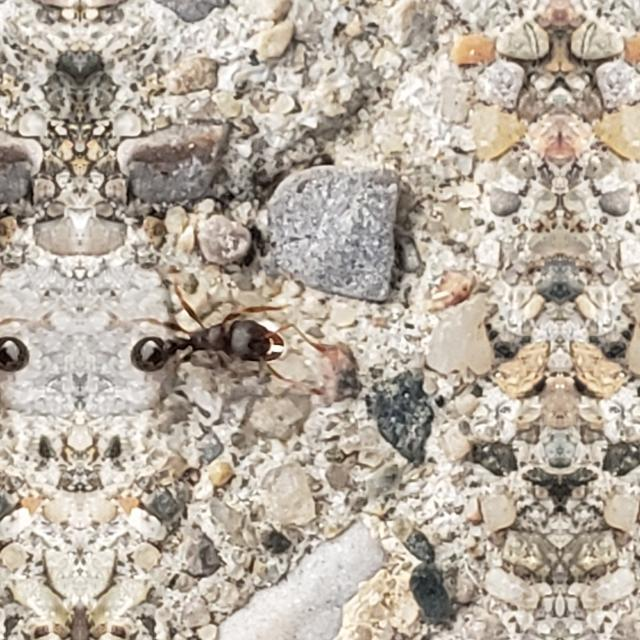Tetramorium: (112, 282, 316, 404), (0, 281, 48, 404)
